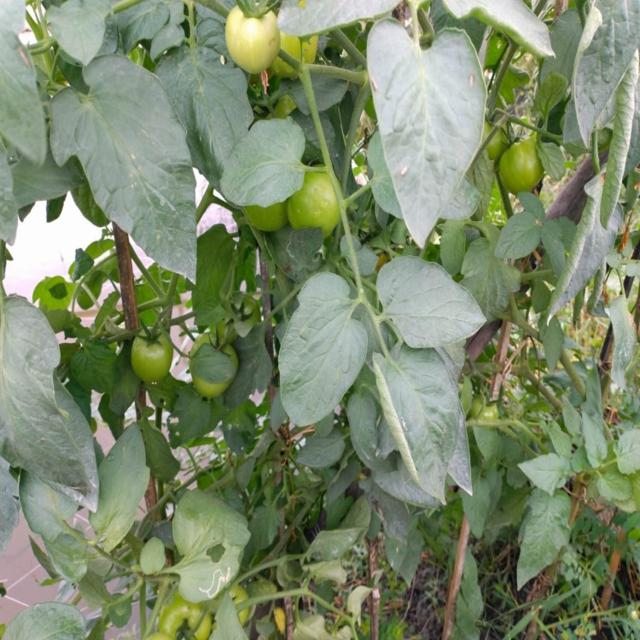tomato: (223, 6, 278, 74), (291, 165, 345, 234), (500, 132, 555, 196), (186, 335, 239, 397), (132, 326, 178, 389), (156, 596, 210, 640), (277, 35, 317, 82), (243, 204, 292, 236), (226, 582, 256, 626), (470, 390, 500, 429), (479, 120, 505, 160)
